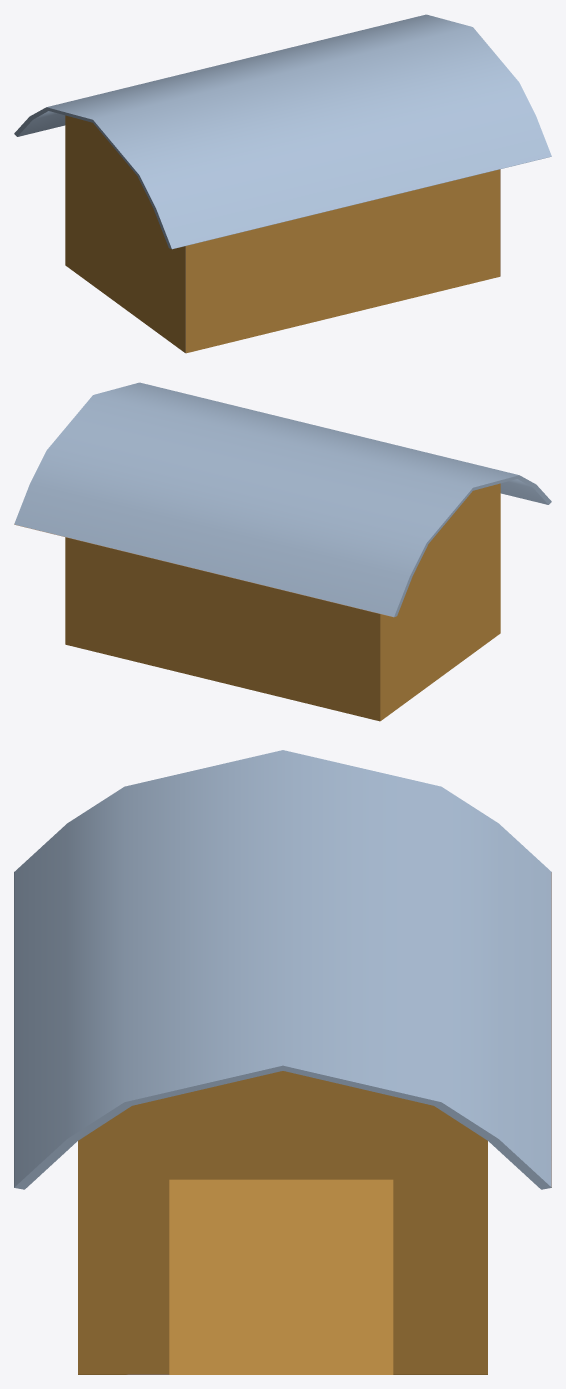
Rendered from pasture_winter.glb.
3 renders of one model, top to bottom at view 1: azimuth 30°, elevation 25°; view 2: azimuth 150°, elevation 25°; view 3: azimuth 270°, elevation 25°, orthographic. The views are drawn at different scales.
Visible parts, largest first — view 1: Plane; view 2: Plane; view 3: Plane.
Part boxes in pixels (<box>): Plane: <box>14,14,551,353</box>; Plane: <box>14,382,551,721</box>; Plane: <box>14,750,551,1374</box>.
Size of the model in its own units: 2.41 by 1.2 by 1.74.
2 materials, 2 textured.
